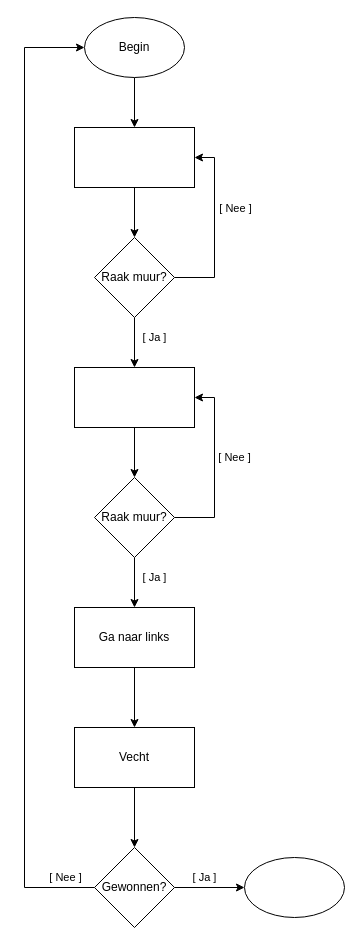
This 362x945 diagram has some shape labels left out. The shapes that lost their labels are listed below. From the top down, each one's box as (x1, y1, x2, y2) in pixels, then its label:
(74, 126, 194, 188): Ga rechtdoor
(74, 366, 194, 428): Ga naar rechts
(244, 856, 344, 918): Sanghelios bereikt
